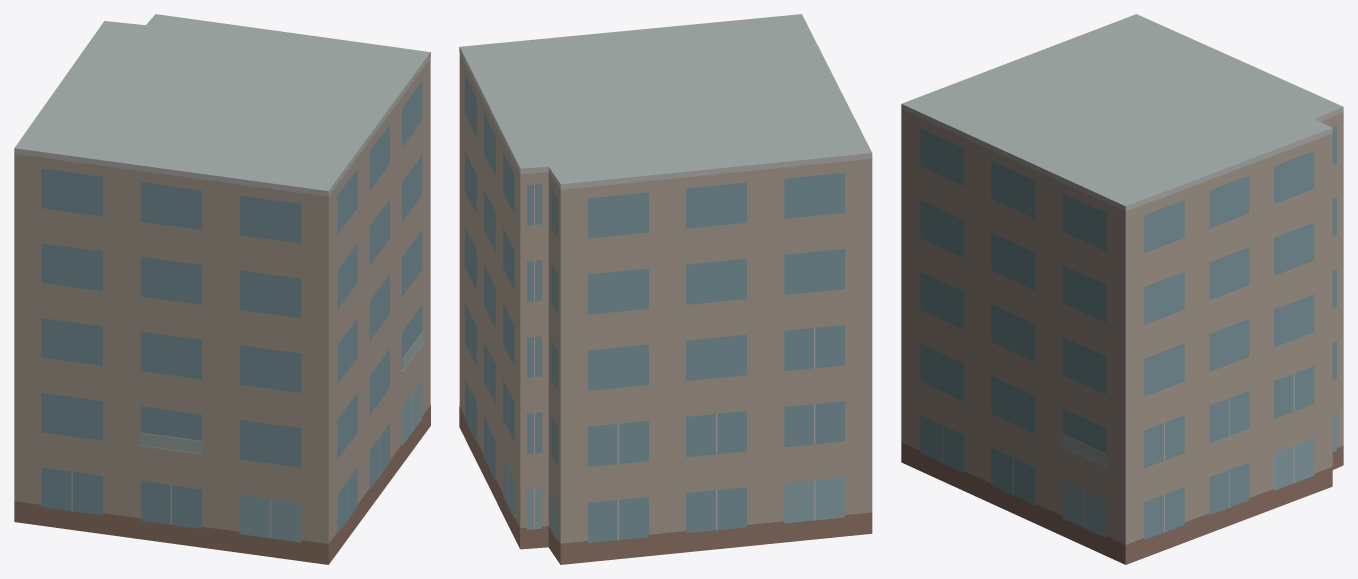
File: survey-upis-32683865.glb
3 views of the same model, side by side, from view 1: azimuth 30°, elevation 25°; view 2: azimuth 150°, elevation 25°; view 3: azimuth 270°, elevation 25° (orthographic). The views are drawn at different scales.
Parts seen in each view (by area): view 1: survey-upis-32683865.tmp; view 2: survey-upis-32683865.tmp; view 3: survey-upis-32683865.tmp.
Part boxes in pixels (x1=…): survey-upis-32683865.tmp: x1=14, y1=14, x2=430, y2=564; survey-upis-32683865.tmp: x1=459, y1=14, x2=872, y2=564; survey-upis-32683865.tmp: x1=901, y1=14, x2=1343, y2=564.
Bounding box in the file's own units: 19.11 × 16.6 × 18.57.
